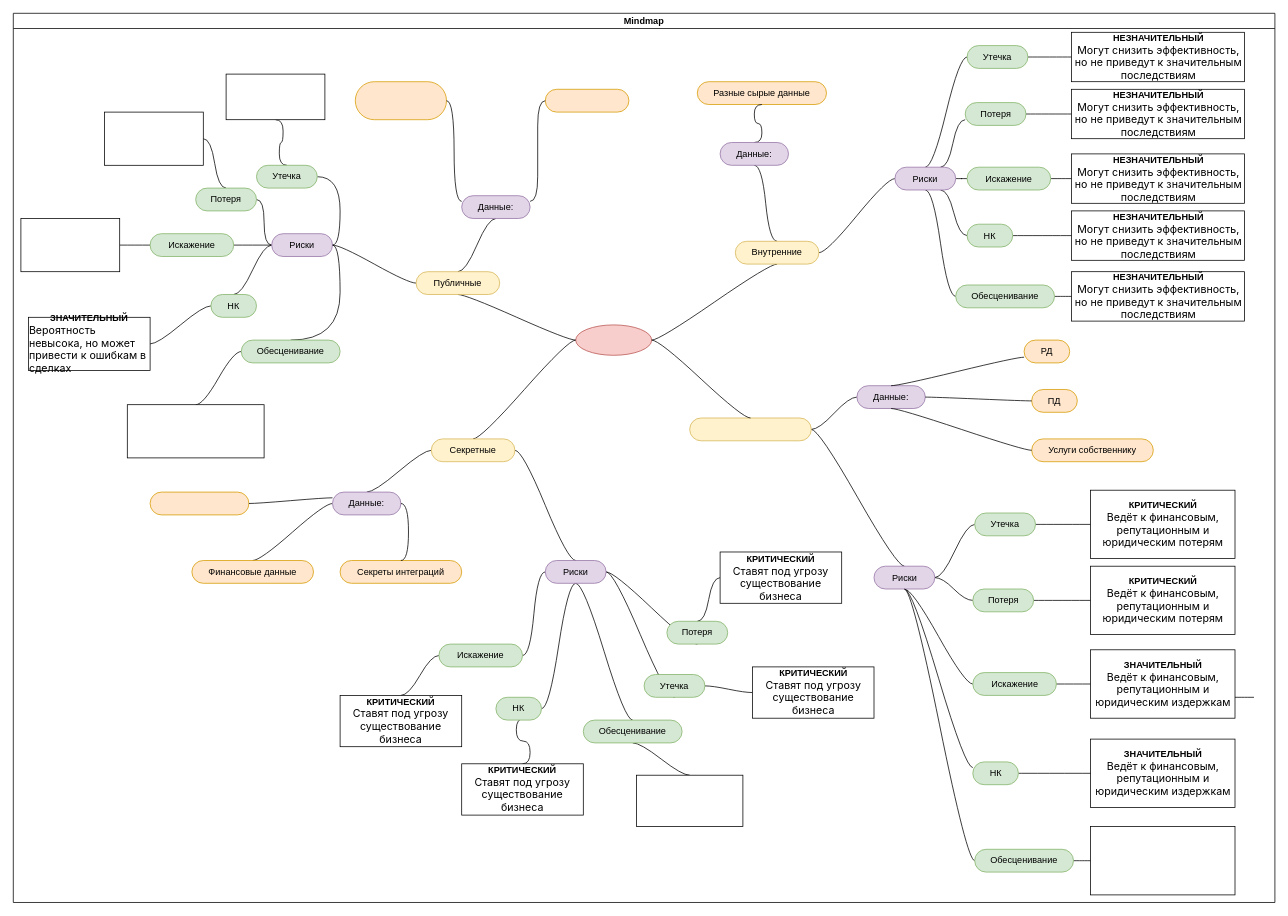
Some shapes in this 1288 by 916 pixel diagram are drawn without their labels. The centre of each missing label's shape, as x and y in pixels:
"3D-контент" belongs at pixel 587 100.
"Безопасность данных" belongs at pixel 613 339.
"Данные объектов недвижимости" belongs at pixel 400 100.
"Данные сделок" belongs at pixel 199 503.
"Конфиденциальные" belongs at pixel 750 429.
"КРИТИЧЕСКИЙ Ведут к ошибкам в сделках" belongs at pixel 70 245.
"КРИТИЧЕСКИЙ Пользователь принимает решение на основе этой информации" belongs at pixel 195 431.
"НЕЗНАЧИТЕЛЬНЫЙ Легко восстанавливается из копий" belongs at pixel 153 138.
"НЕЗНАЧИТЕЛЬНЫЙ Происходит не так часто, ущерб не велик" belongs at pixel 1162 860.
"НЕЗНАЧИТЕЛЬНЫЙ Слабо подвержены устареванию" belongs at pixel 689 800.
"НЕЗНАЧИТЕЛЬНЫЙ Это публичная информация" belongs at pixel 275 96.
